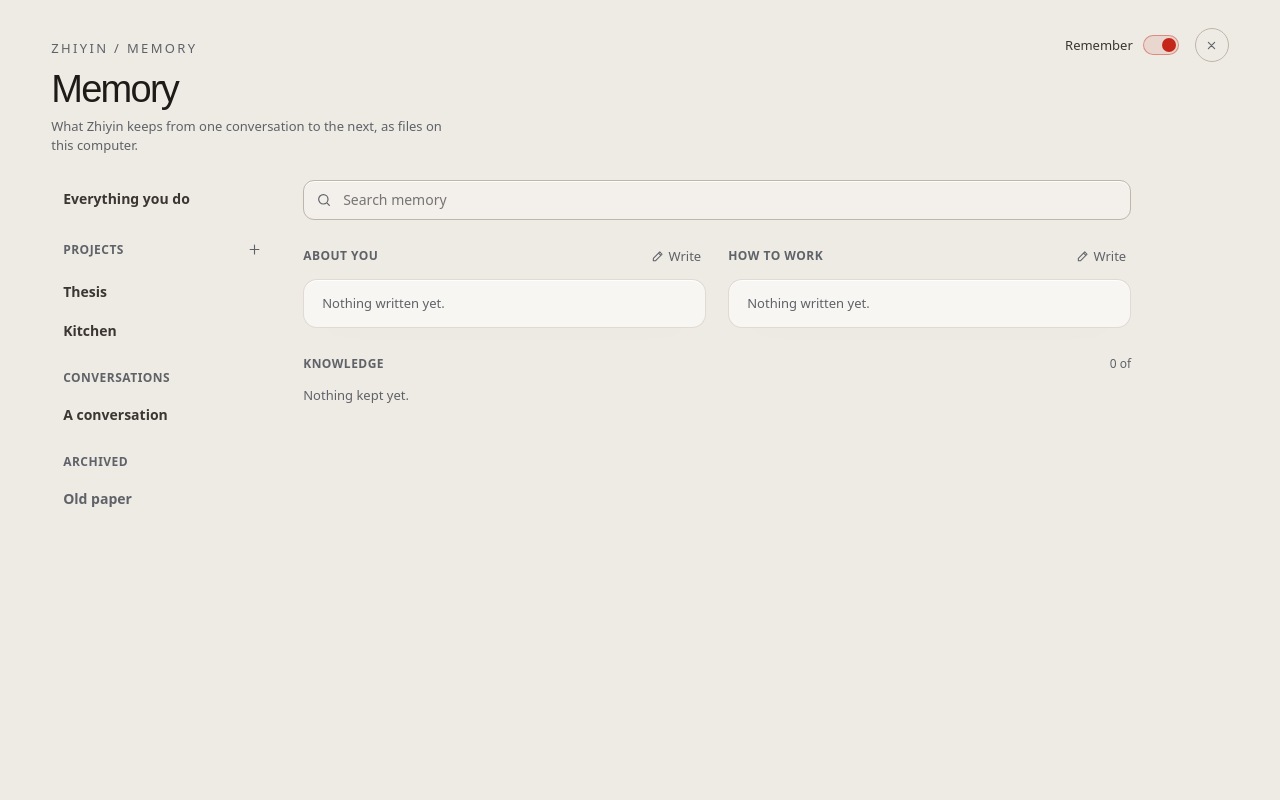
Test: projects on the Memory page › says why memory refused a change to a project
The width and height of the screenshot is (1280, 800).
Click the button "Kitchen" at coordinates (161, 330), box [51, 312, 271, 349]
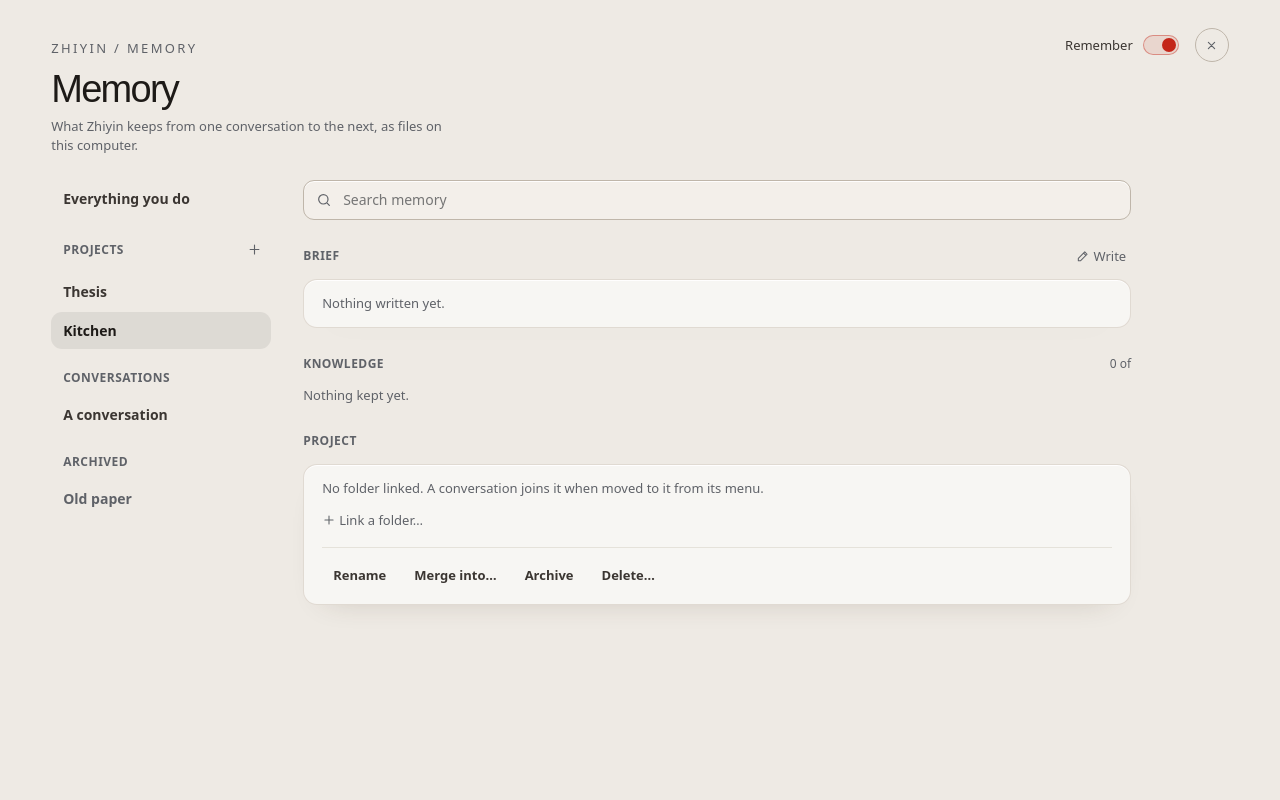
Click the button "Rename" at coordinates (360, 575), box [322, 560, 397, 590]
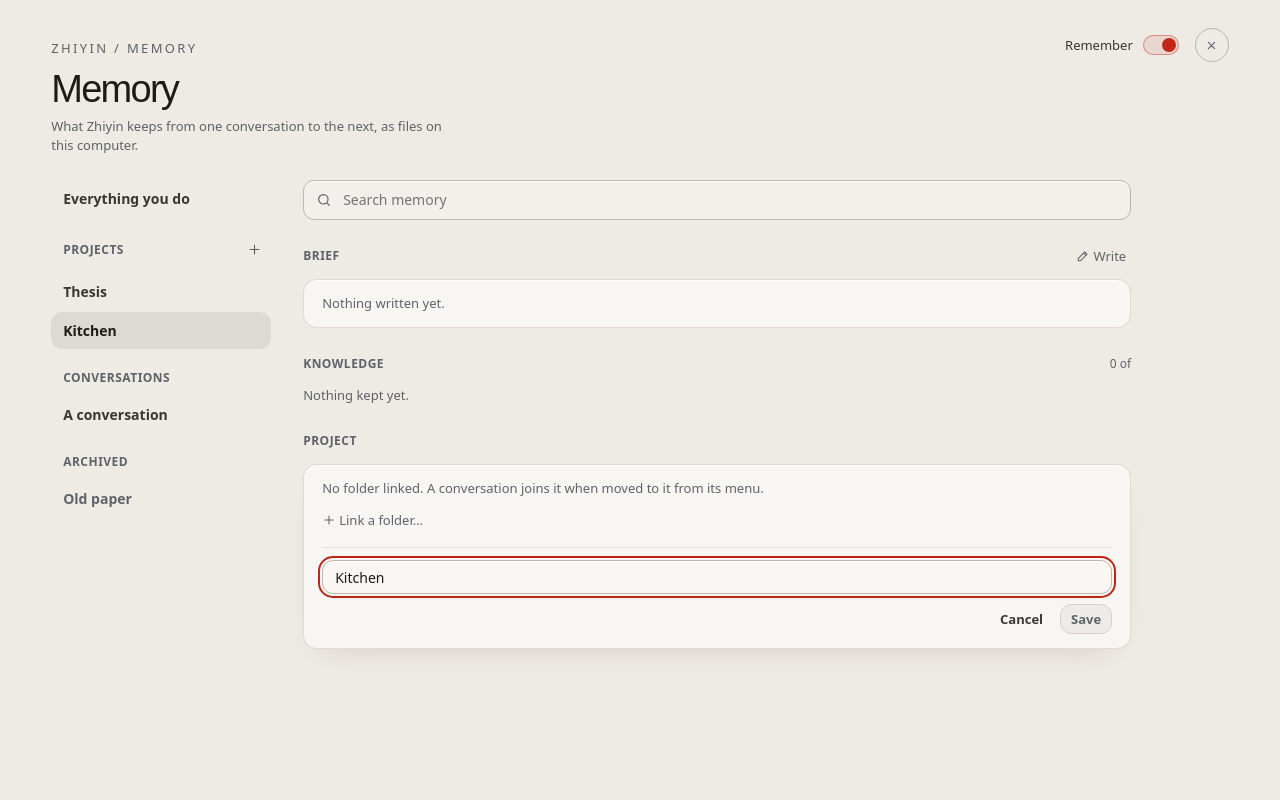
Replace the text in the field named "Project name" with "Thesis" at coordinates (717, 577), box [322, 560, 1112, 594]
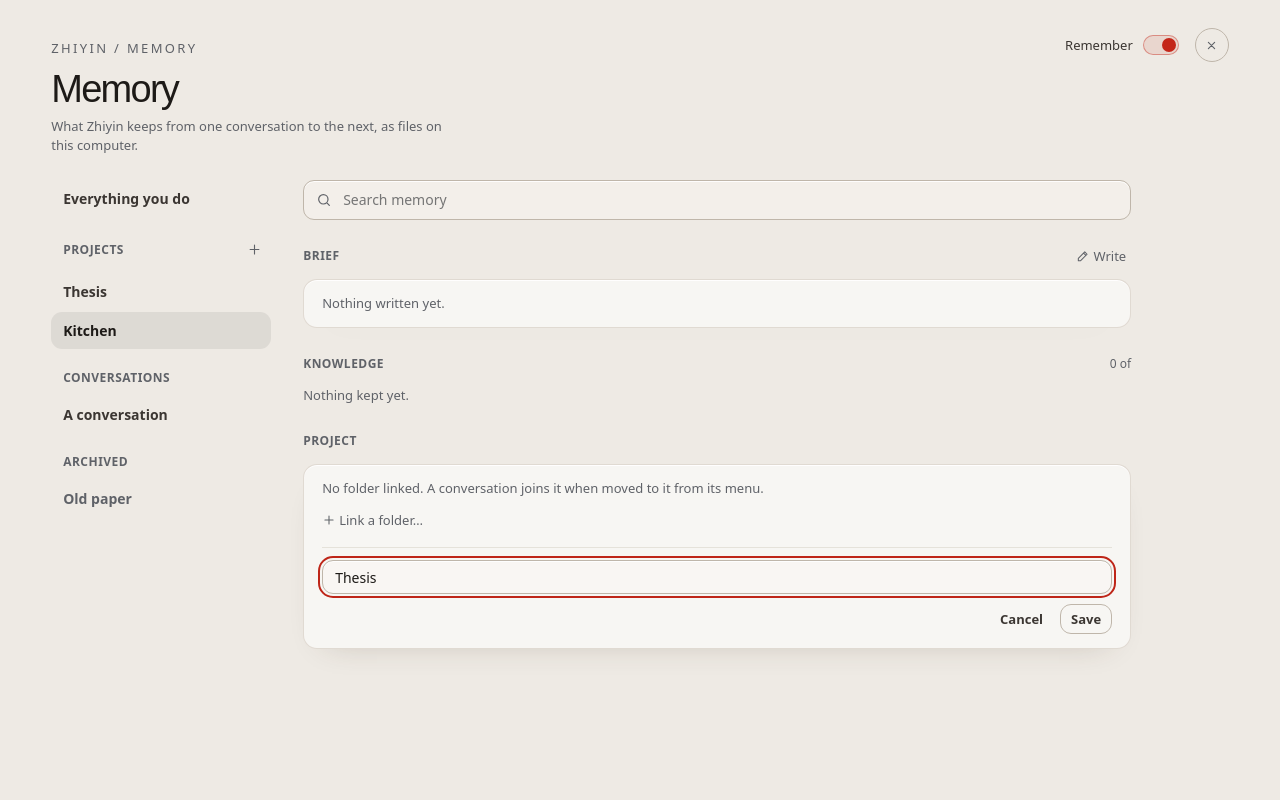
Click the button "Save" at coordinates (1086, 619), box [1060, 604, 1112, 634]
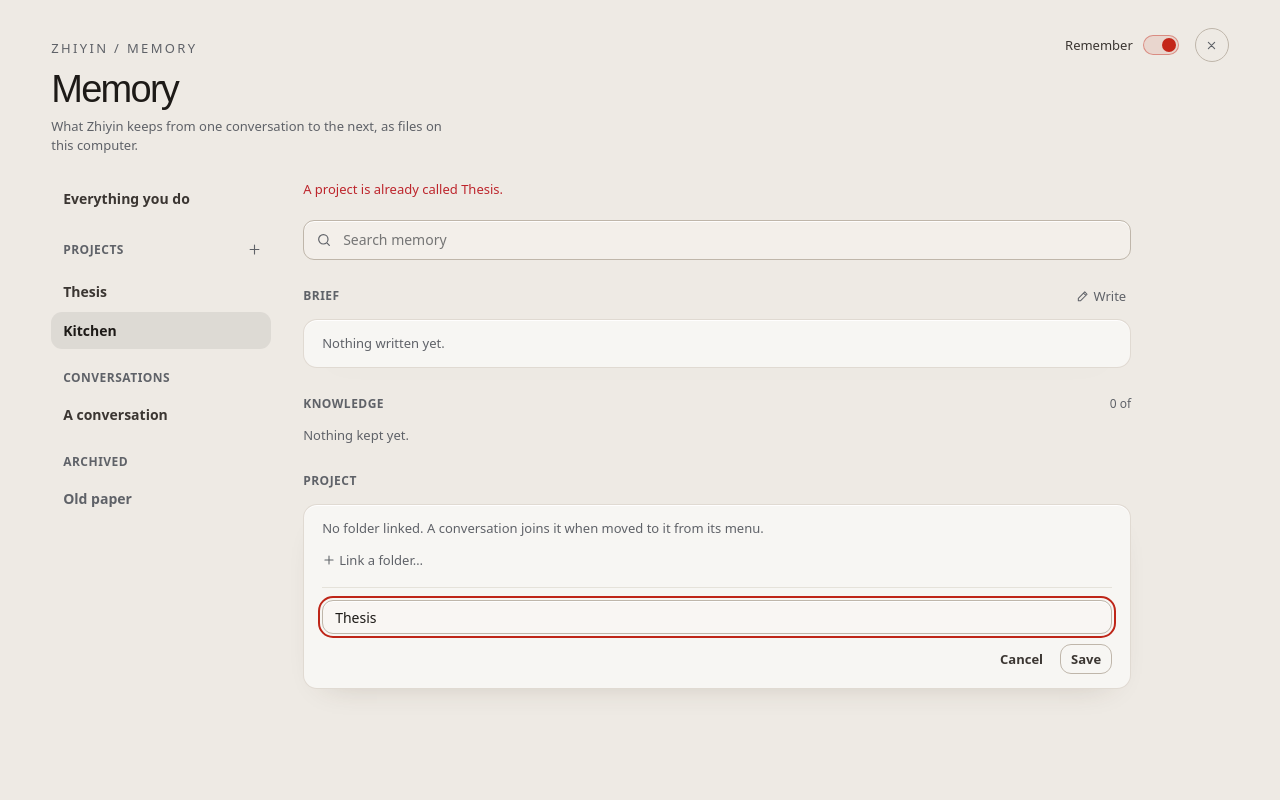
Result: the message reads "A project is already called Thesis." at [303, 180, 503, 198]
